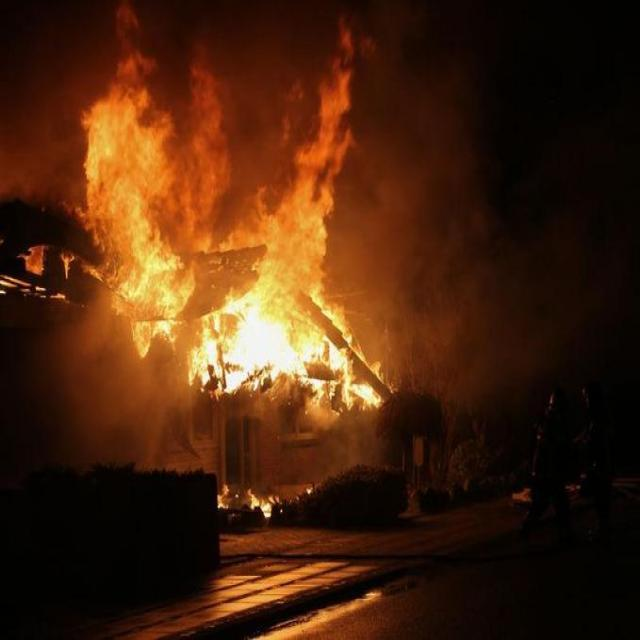Fire: (81, 74, 188, 350), (255, 68, 352, 296), (192, 298, 304, 389), (305, 328, 348, 382), (352, 374, 376, 408)
